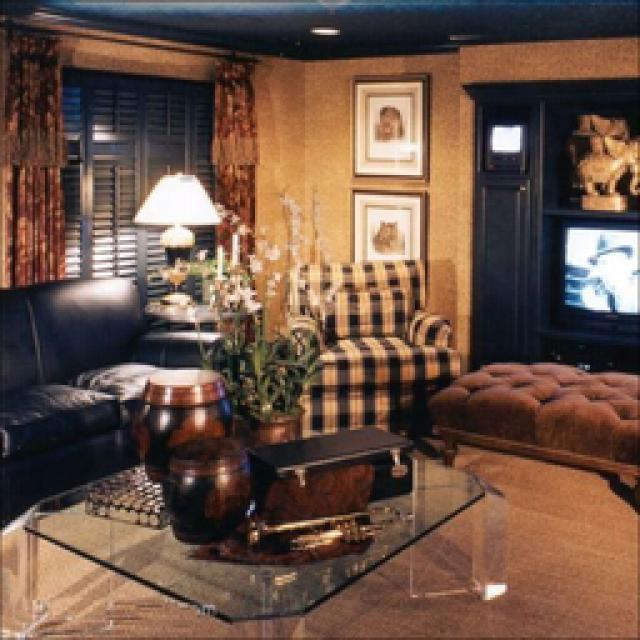2001: (58, 62, 212, 292)
armchair crop: (278, 258, 460, 432)
book case: (82, 470, 170, 525)
box contants: (238, 425, 412, 510)
candle holder: (228, 230, 240, 278), (210, 242, 225, 278)
ceiling lamps: (308, 22, 338, 35)
curtain crop: (0, 28, 70, 282), (208, 55, 260, 260)
instrument: (242, 498, 418, 548)
lamp crop: (128, 175, 218, 300)
ottoman: (428, 358, 635, 478)
painting crop: (350, 72, 425, 178), (350, 188, 425, 280)
pillow occluded: (320, 285, 405, 332)
plant -x: (222, 330, 315, 438), (178, 258, 240, 298)
side: (142, 298, 258, 320)
small table part: (15, 420, 482, 618)
sofa bed: (0, 270, 220, 528)
statue: (575, 132, 635, 208)
television cabinet: (550, 220, 635, 332), (482, 120, 525, 170)
television case: (460, 75, 635, 370)
vase -X: (138, 360, 230, 478), (160, 432, 250, 538)
